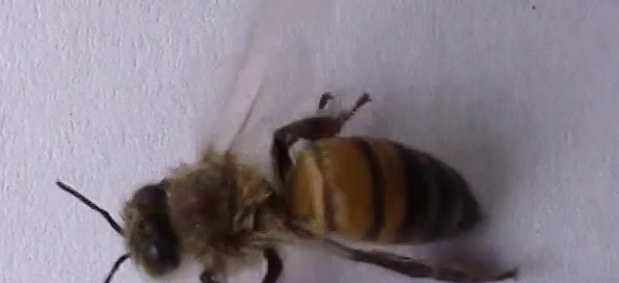Varroa destructor: (176, 190, 234, 224)
